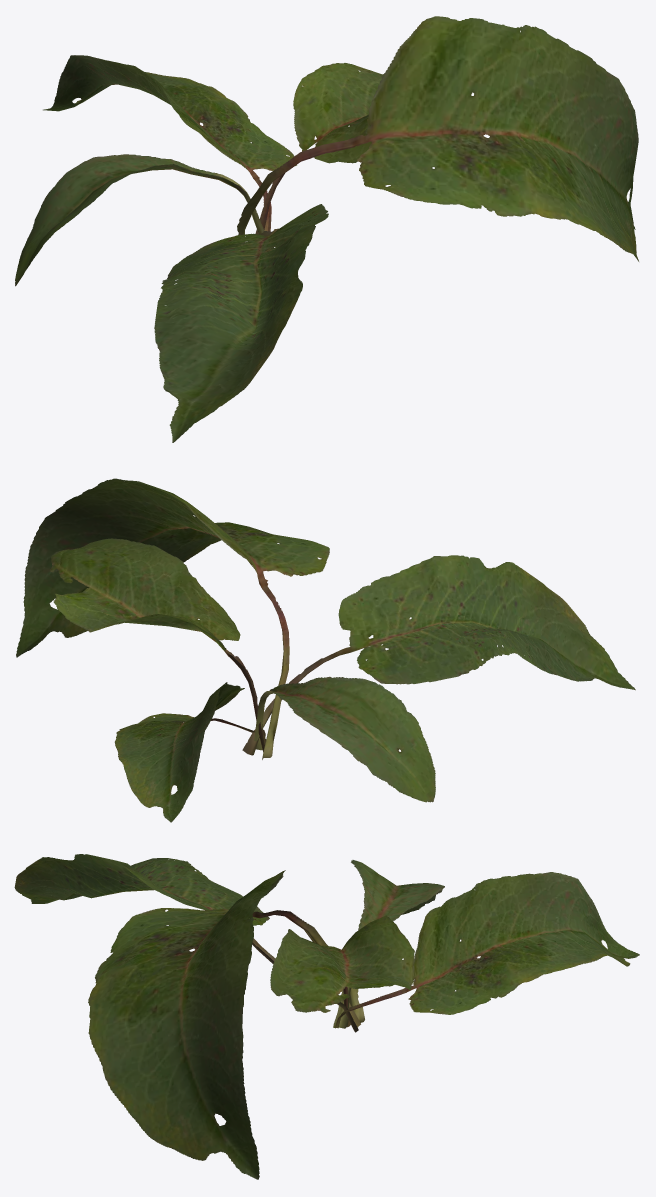
The picture shows the model from 3 angles, top to bottom: view 1: azimuth 30°, elevation 25°; view 2: azimuth 150°, elevation 25°; view 3: azimuth 270°, elevation 25°; orthographic projection. The views are drawn at different scales.
Parts seen in each view (by area): view 1: weed_plant_02__c_lod0; view 2: weed_plant_02__c_lod0; view 3: weed_plant_02__c_lod0.
Part boxes in pixels (x1,y1,x2,y2): weed_plant_02__c_lod0: [15, 16, 638, 442]; weed_plant_02__c_lod0: [16, 478, 635, 822]; weed_plant_02__c_lod0: [14, 854, 639, 1179].
Size of the model in its own units: 0.1471 by 0.0589 by 0.1475.
1 material, 1 textured.
